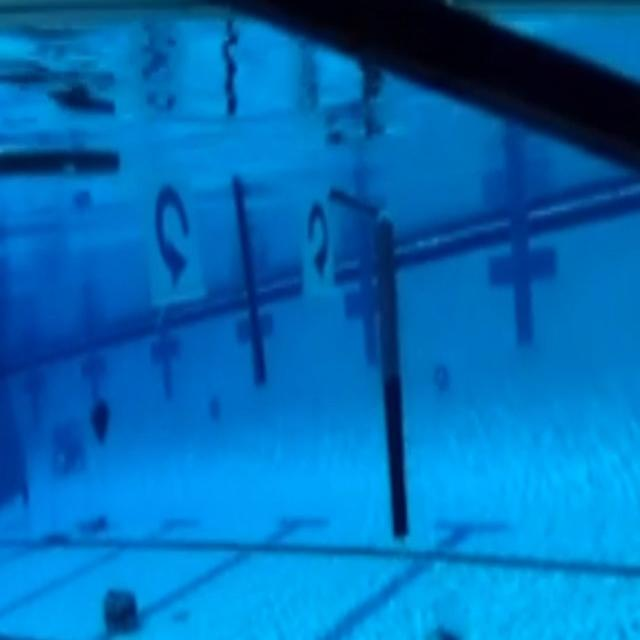Gate: (0, 123, 416, 565)
